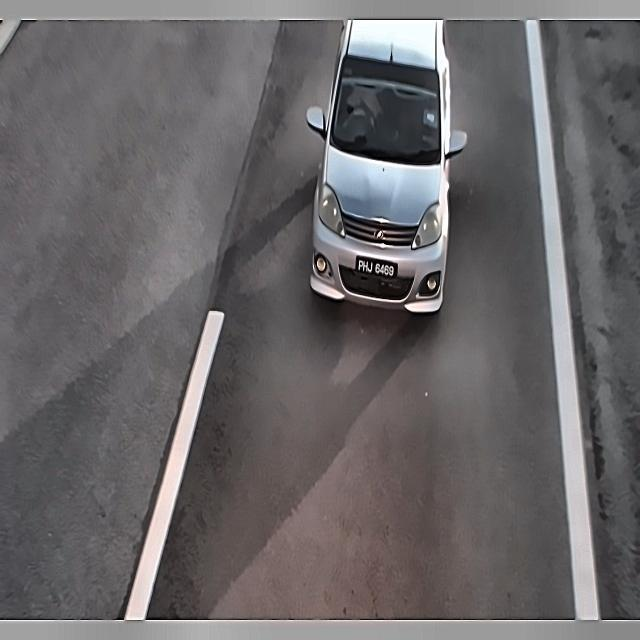car: (352, 249, 402, 286)
